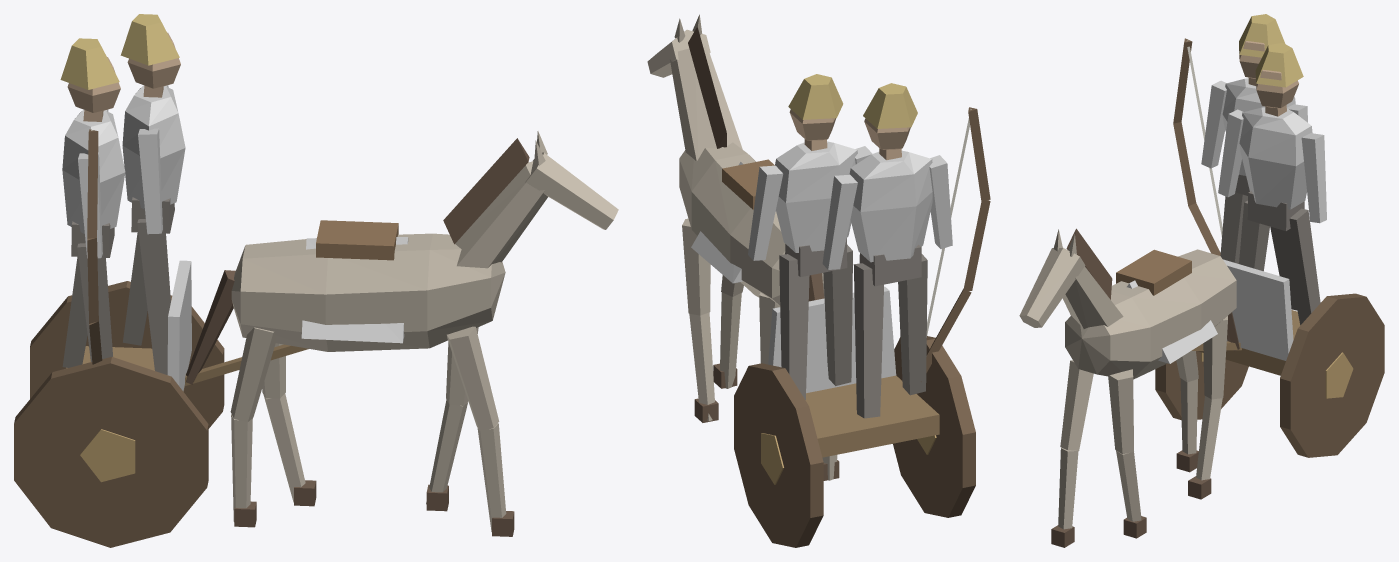
The model's file is war-chariot.glb.
3 views of the same model, side by side, from view 1: azimuth 30°, elevation 25°; view 2: azimuth 150°, elevation 25°; view 3: azimuth 270°, elevation 25° (orthographic). The views are drawn at different scales.
Visible parts, largest first — view 1: LOD0; view 2: LOD0; view 3: LOD0.
Part boxes in pixels (bbox=[...]): LOD0: bbox=[14, 14, 618, 547]; LOD0: bbox=[647, 14, 990, 547]; LOD0: bbox=[1019, 14, 1384, 547].
Size of what is drawn, in the model's own units: 1.41 by 1.34 by 1.1.
